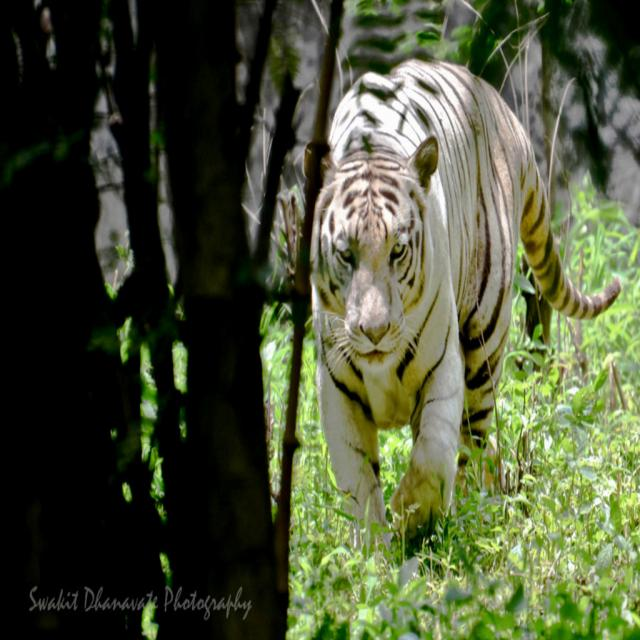Tiger: (307, 58, 620, 552)
